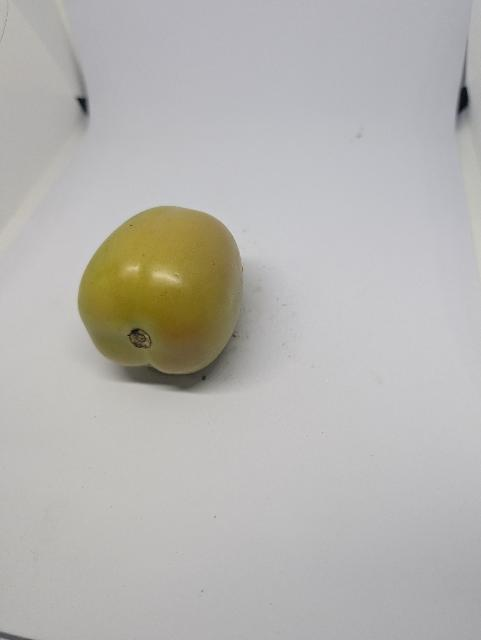breaker: (75, 204, 250, 379)
